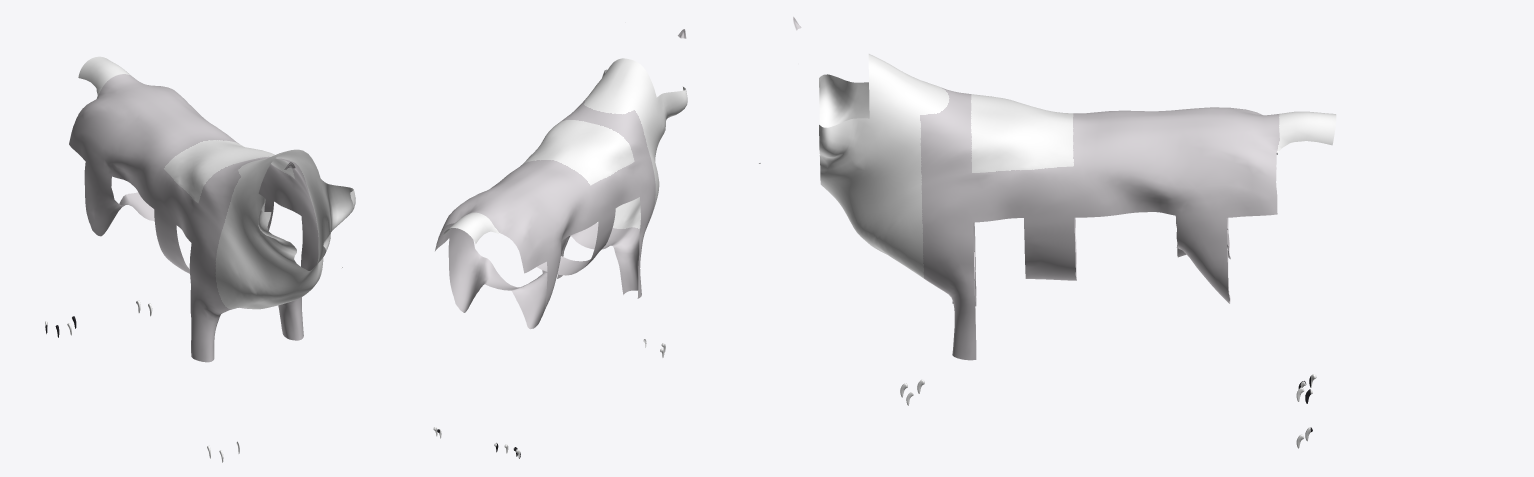
File: wolf.obj
The picture shows the model from 3 angles, left to right: view 1: azimuth 30°, elevation 25°; view 2: azimuth 150°, elevation 25°; view 3: azimuth 270°, elevation 25°; orthographic projection. The views are drawn at different scales.
Parts seen in each view (by area): view 1: default; view 2: default; view 3: default.
Part boxes in pixels (bbox=[...]): default: bbox=[45, 56, 355, 462]; default: bbox=[433, 29, 687, 458]; default: bbox=[759, 16, 1336, 448].
Size of the model in its own units: 0.3898 by 0.9821 by 1.79.
